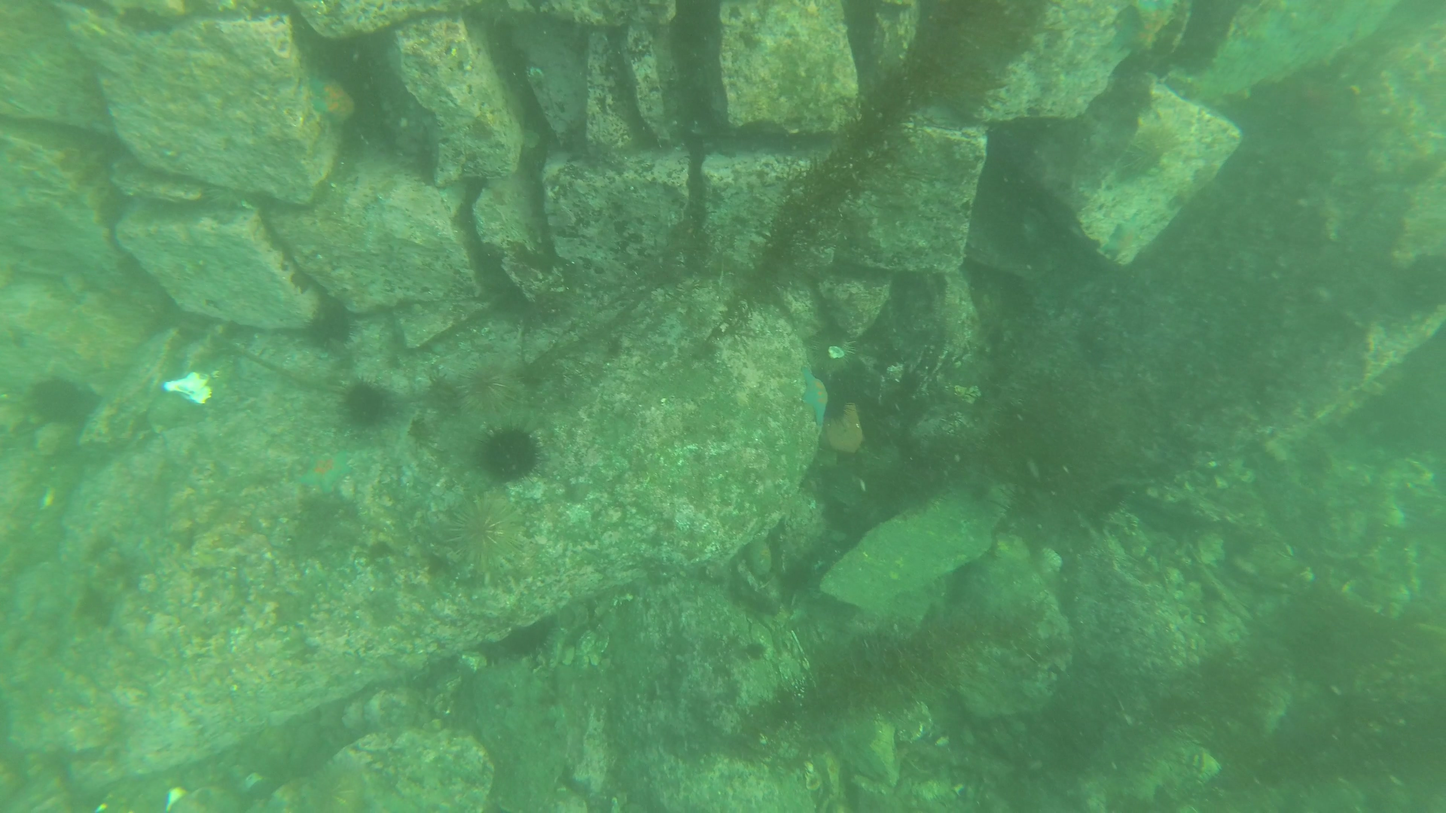holothurian: (296, 442, 359, 501), (311, 72, 359, 131), (796, 362, 834, 435)
scallop: (160, 365, 216, 407)
starfish: (438, 489, 536, 585), (471, 420, 545, 487), (456, 359, 529, 419), (338, 371, 402, 433), (300, 298, 363, 359), (27, 373, 90, 425)
